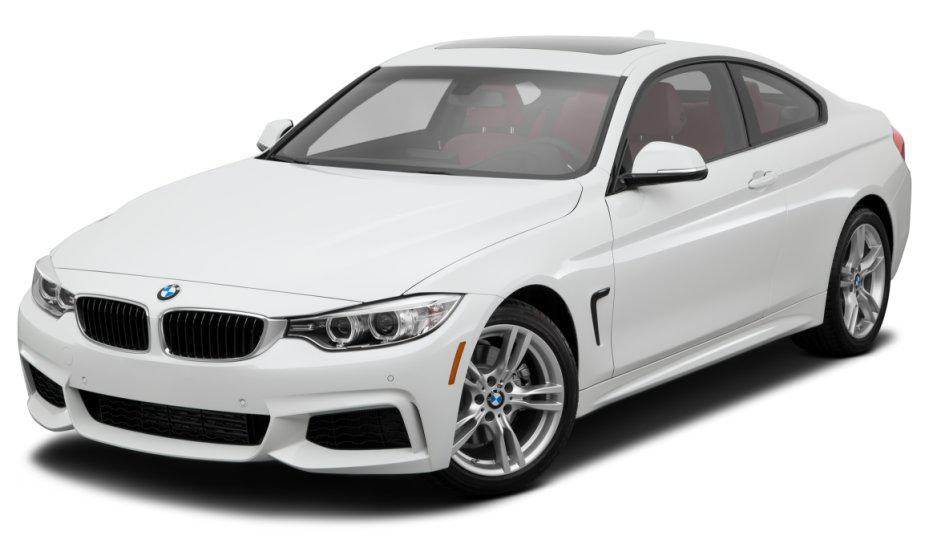bmw: (9, 18, 923, 513)
